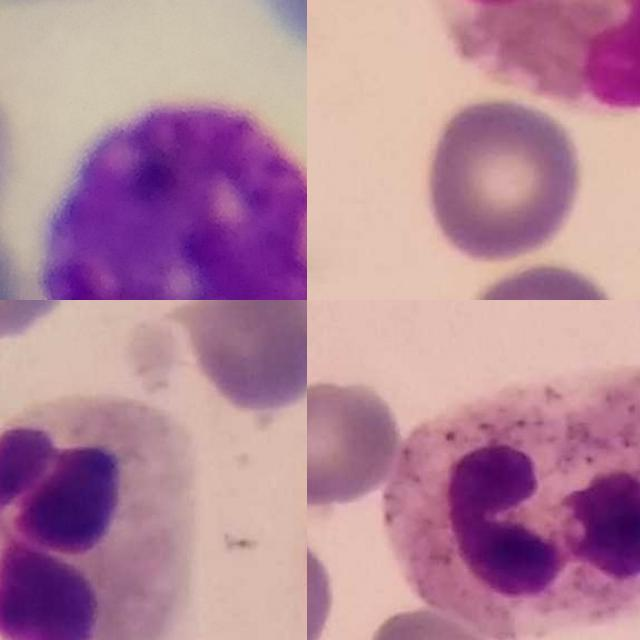Basophil: (42, 97, 307, 300)
Eosinophil: (434, 0, 640, 110)
Neutrophil: (384, 365, 640, 629), (0, 397, 203, 640)
